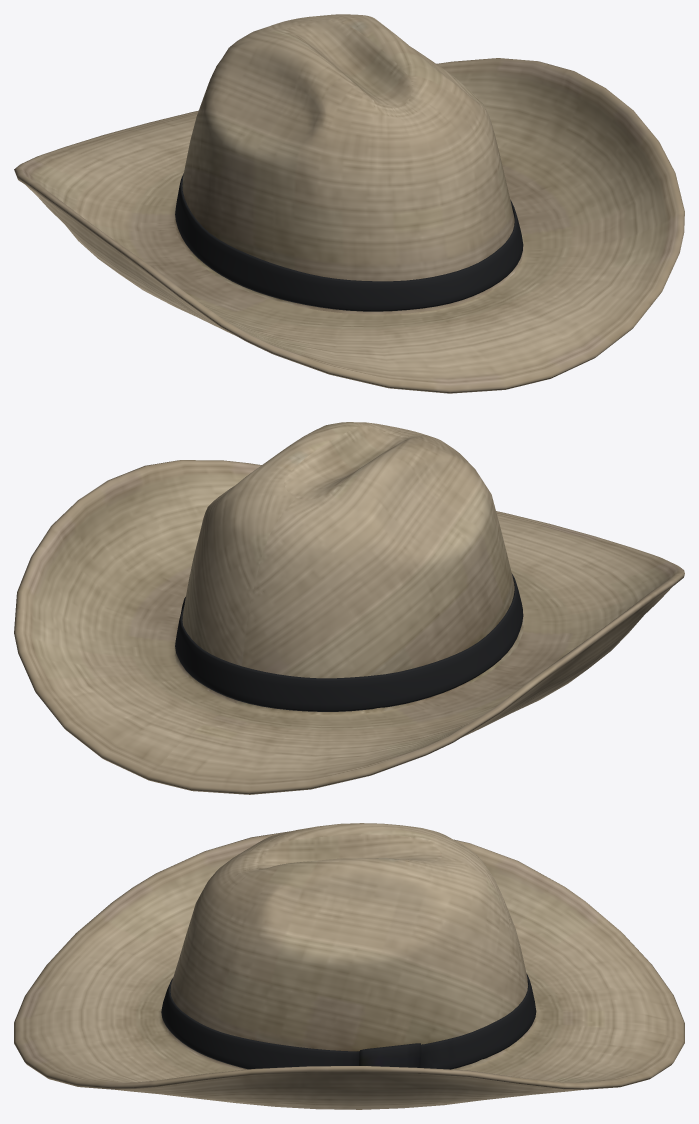
Rendered from hat_straw.glb.
The picture shows the model from 3 angles, top to bottom: view 1: azimuth 30°, elevation 25°; view 2: azimuth 150°, elevation 25°; view 3: azimuth 270°, elevation 25°; orthographic projection. The views are drawn at different scales.
Parts seen in each view (by area): view 1: hat_straw; view 2: hat_straw; view 3: hat_straw.
Boxes of the visible parts, x1,y1,x2,y2 form: hat_straw: (14,14,684,393); hat_straw: (14,422,684,794); hat_straw: (14,823,684,1109).
Bounding box in the file's own units: 0.3227 × 0.1208 × 0.38.
1 material, 1 textured.
